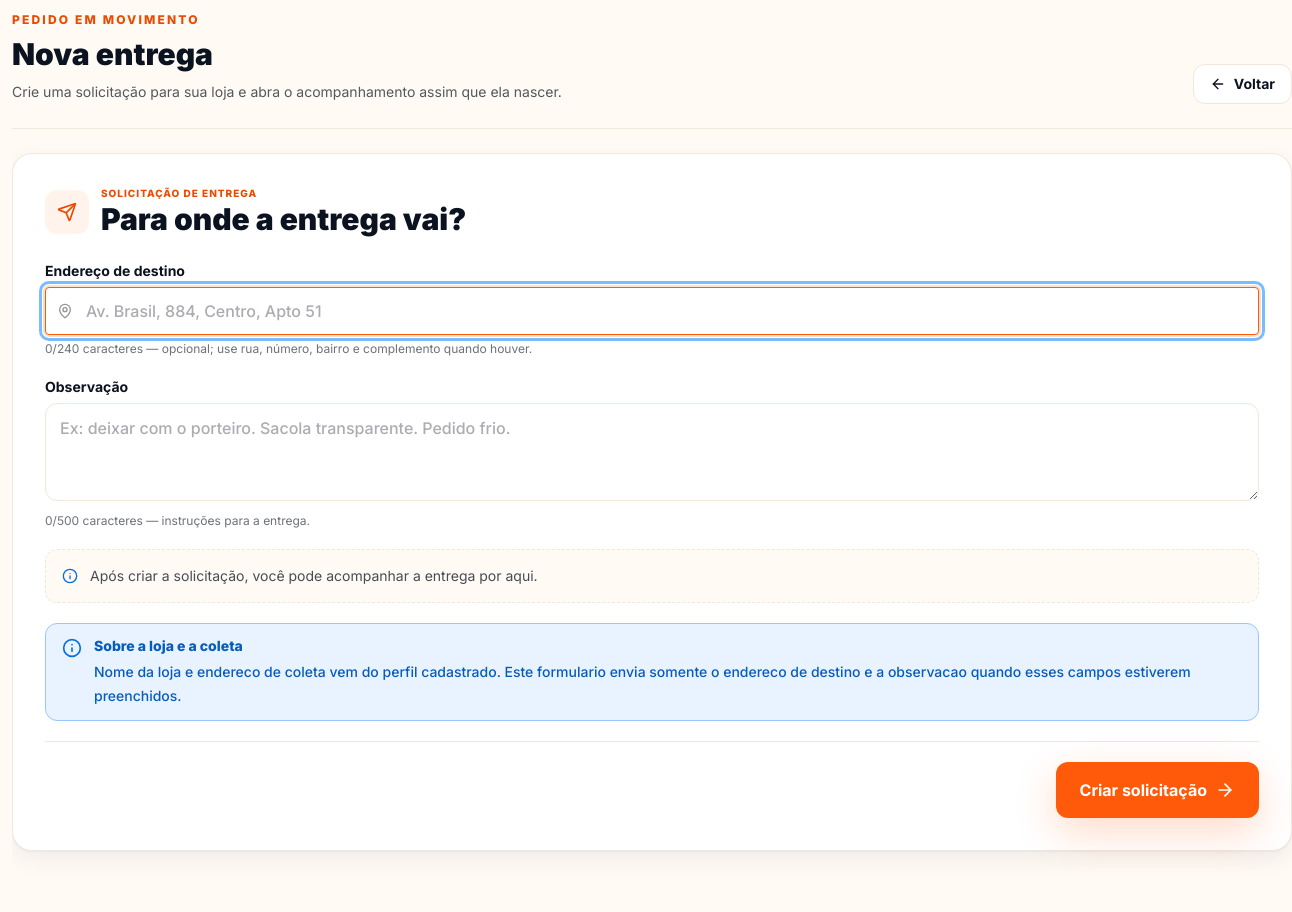
Scenario: NovaEntregaFlow › ignores a pending refresh after leaving the created state
This screenshot has width=1292, height=912.
What coordinates should you click on to do the following:
click the button "Criar solicitação"
I would click on:
 (1157, 790)
Its box is [1056,762,1259,818].
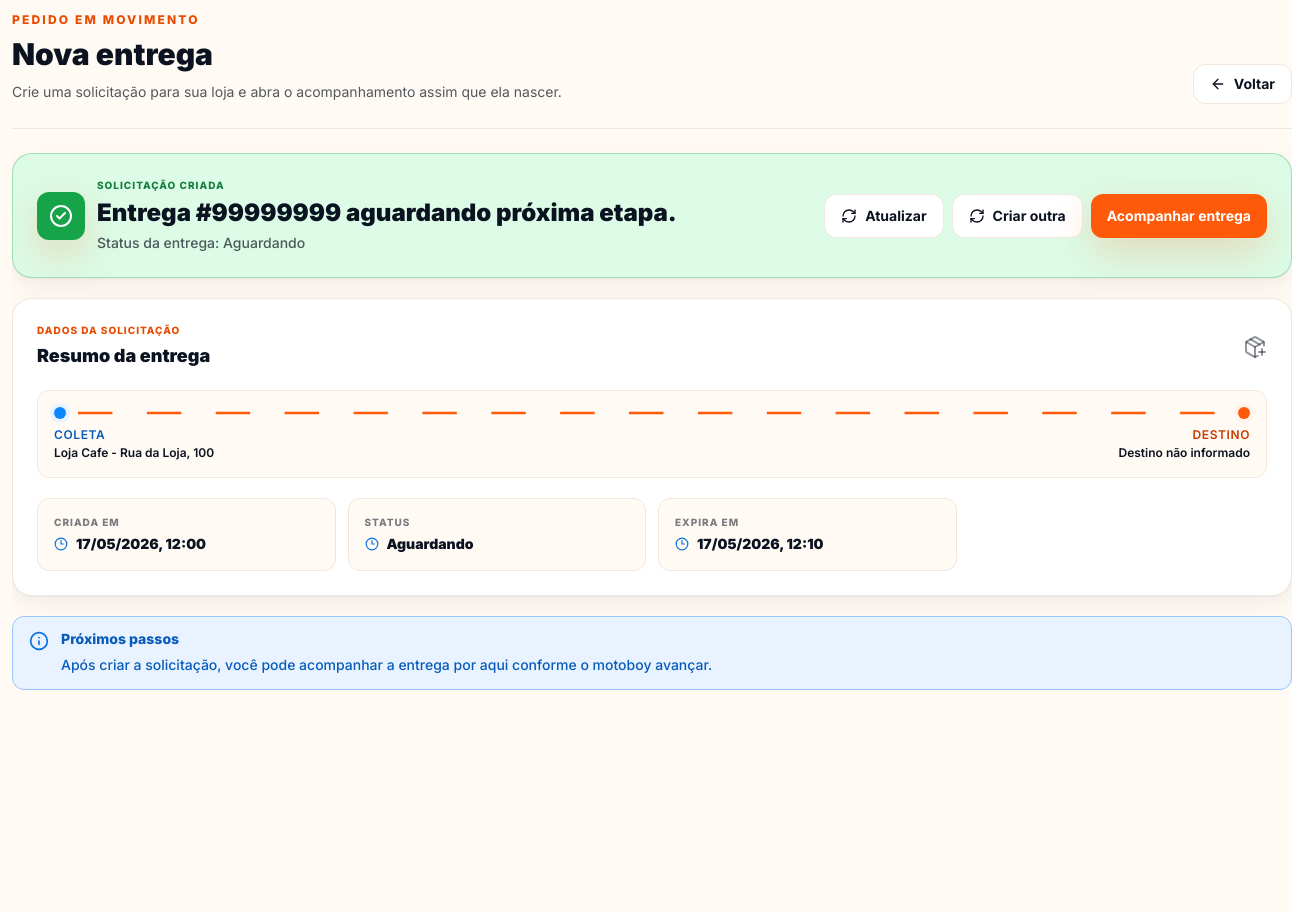
What coordinates should you click on to do the following:
click the button "Atualizar"
I would click on:
 (884, 216)
Its box is [824,194,944,238].
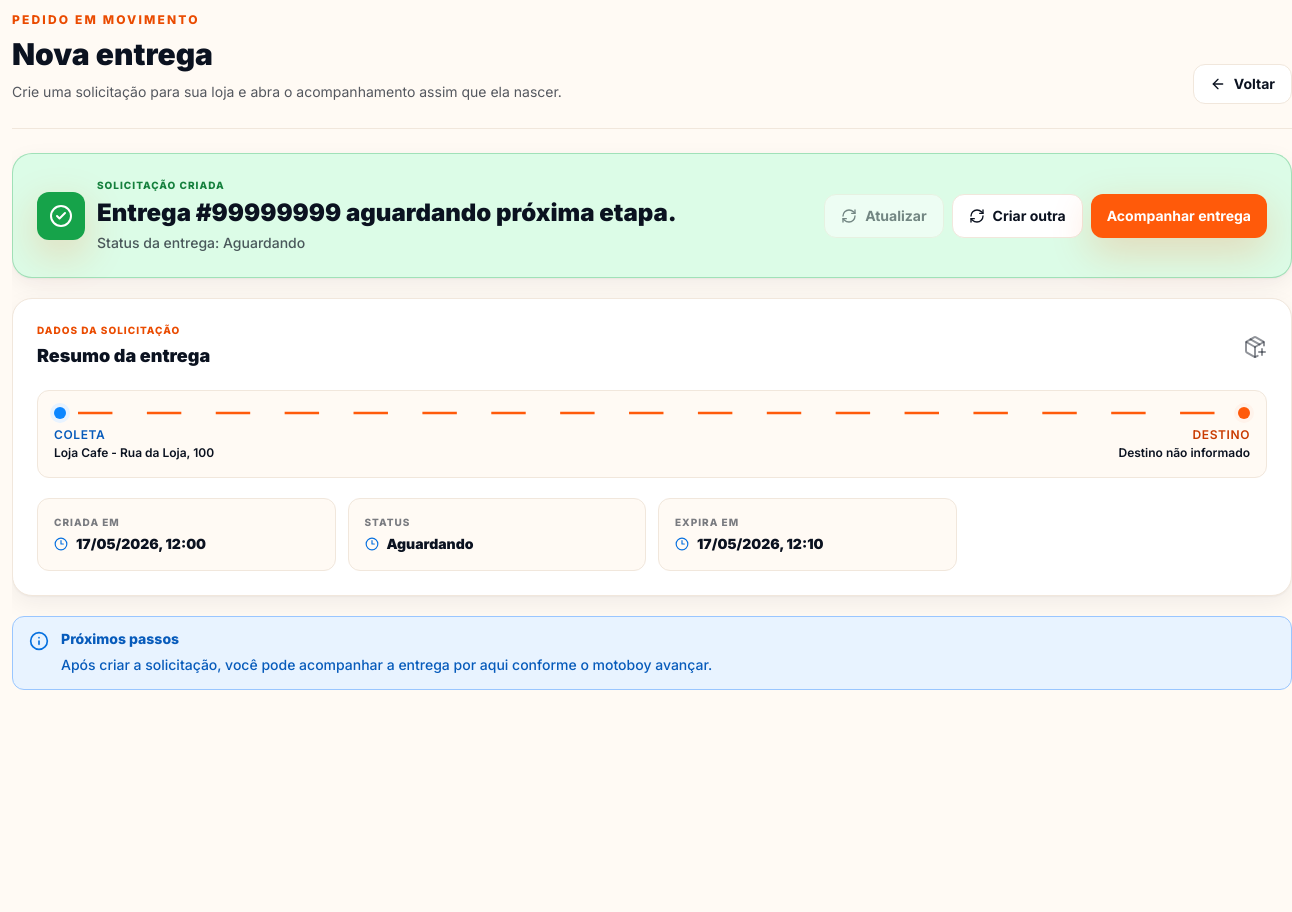
What coordinates should you click on to do the following:
click the button "Criar outra"
I would click on:
 (1017, 216)
Its box is [952,194,1083,238].
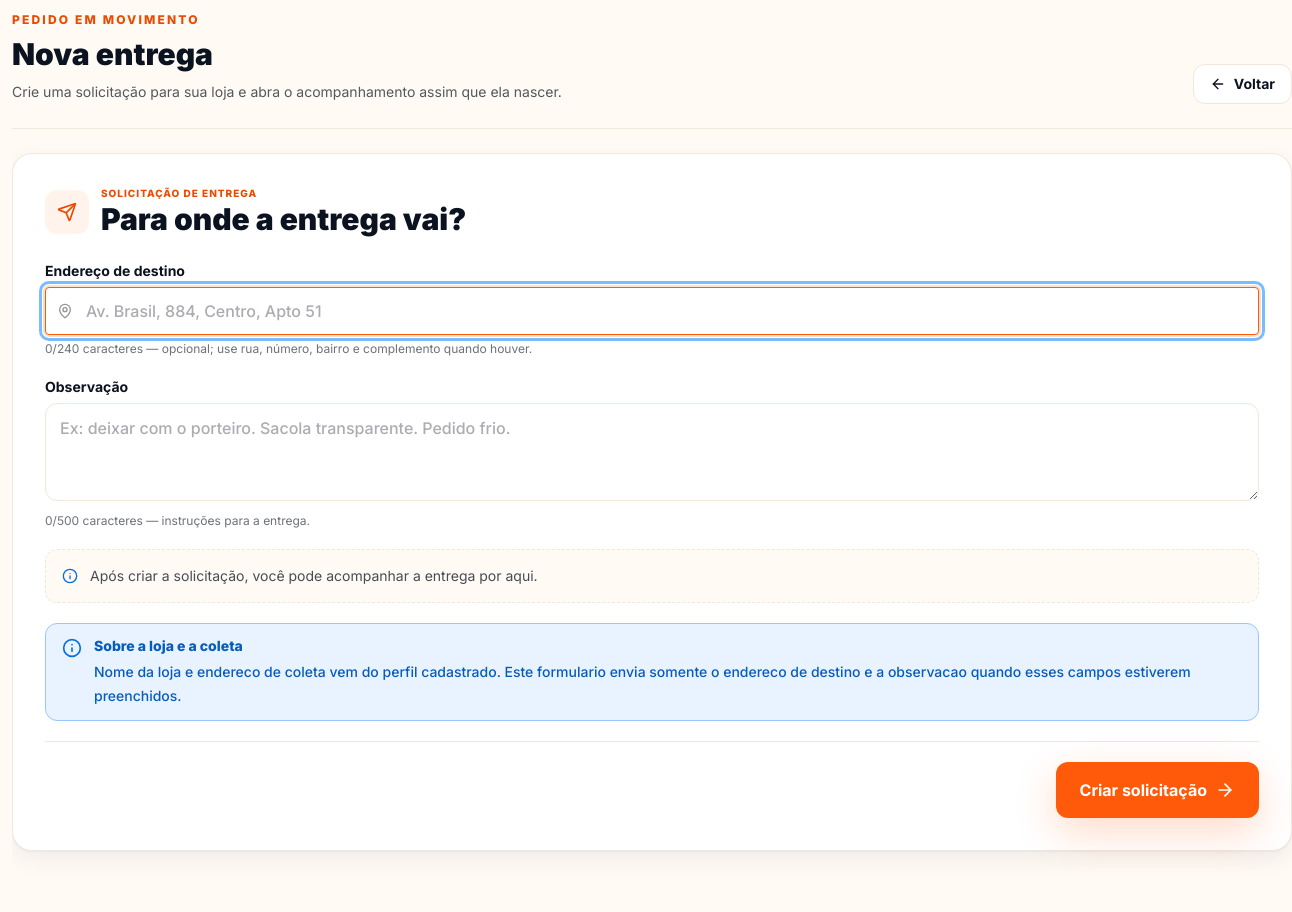
Expected: the button "Criar solicitação" is shown, [1056,762,1259,818]
